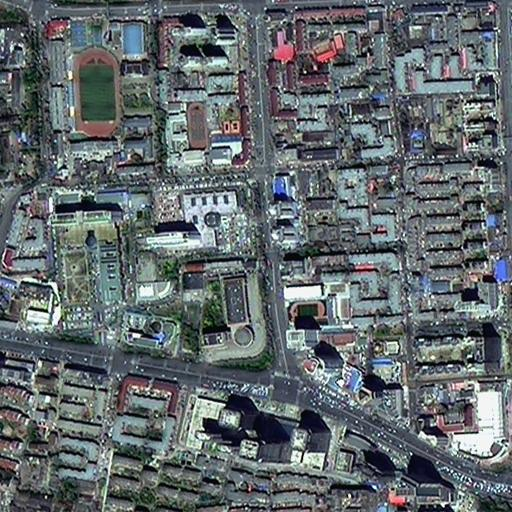school: (66, 14, 155, 154), (160, 98, 211, 171), (280, 280, 350, 326)
